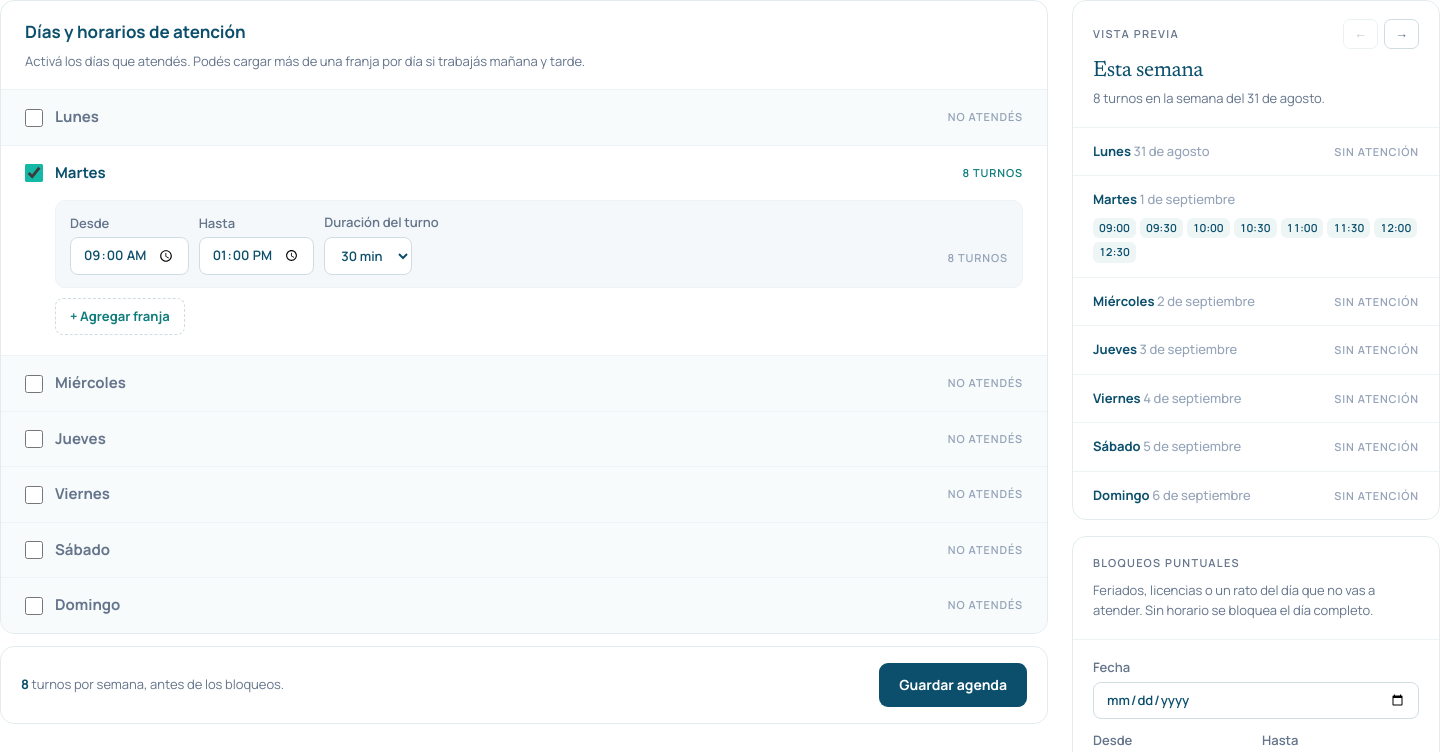
WeeklyScheduleForm (ENG-53) › un bloqueo de día completo deja ese día sin turnos en la preview
expect the checkbox labelled "Martes" is shown: met, box 25,164 -> 43,182
expect the text "8 turnos en la semana del 31 de agosto." is shown: met, box 1093,89 -> 1325,107
Click the button named "semana siguiente" at x=1402, y=34, box 1384,19 -> 1419,48
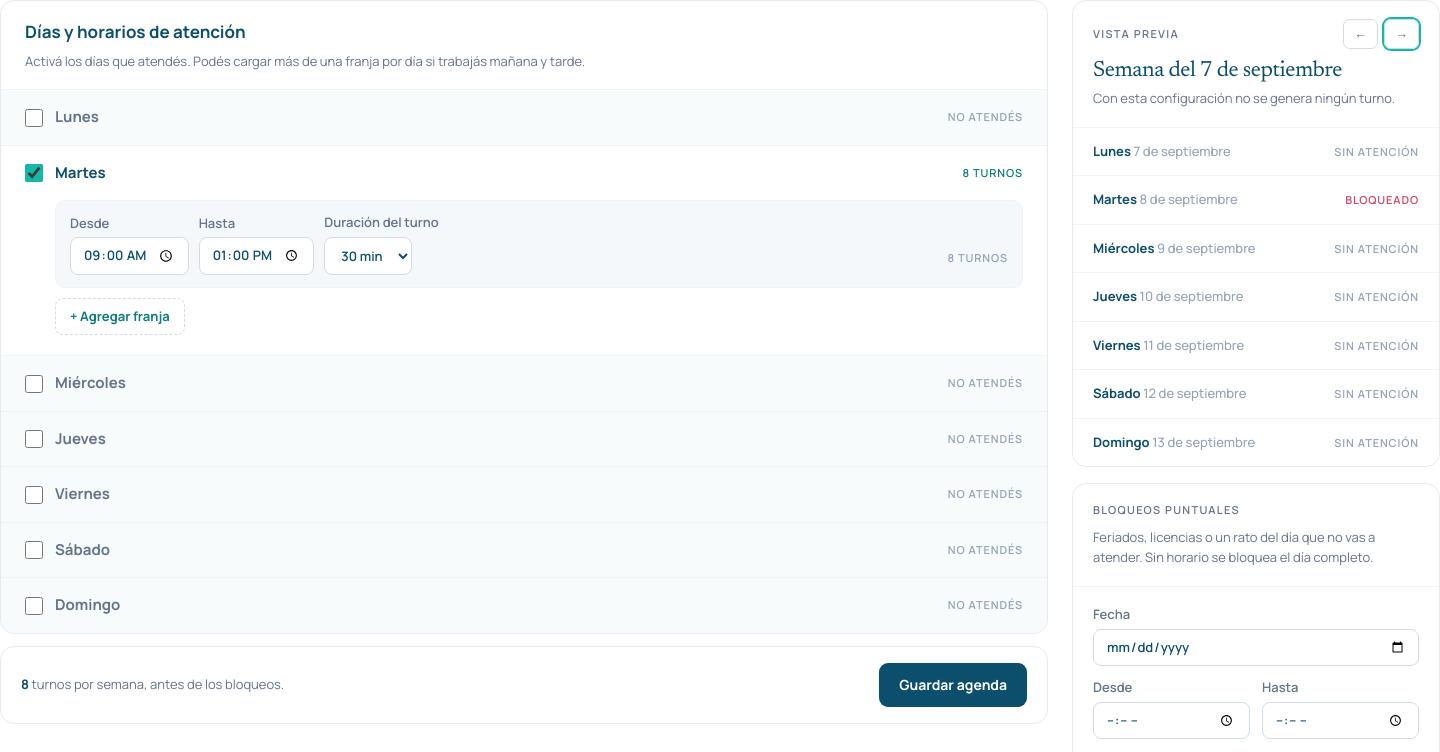
expect the text "Con esta configuración no se genera ningún turno." is shown: met, box 1093,88 -> 1419,109
expect the text "Bloqueado" is shown: met, box 1345,192 -> 1419,209
